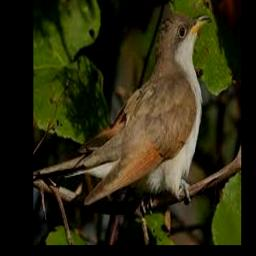Cuckoo: (66, 15, 211, 204)
